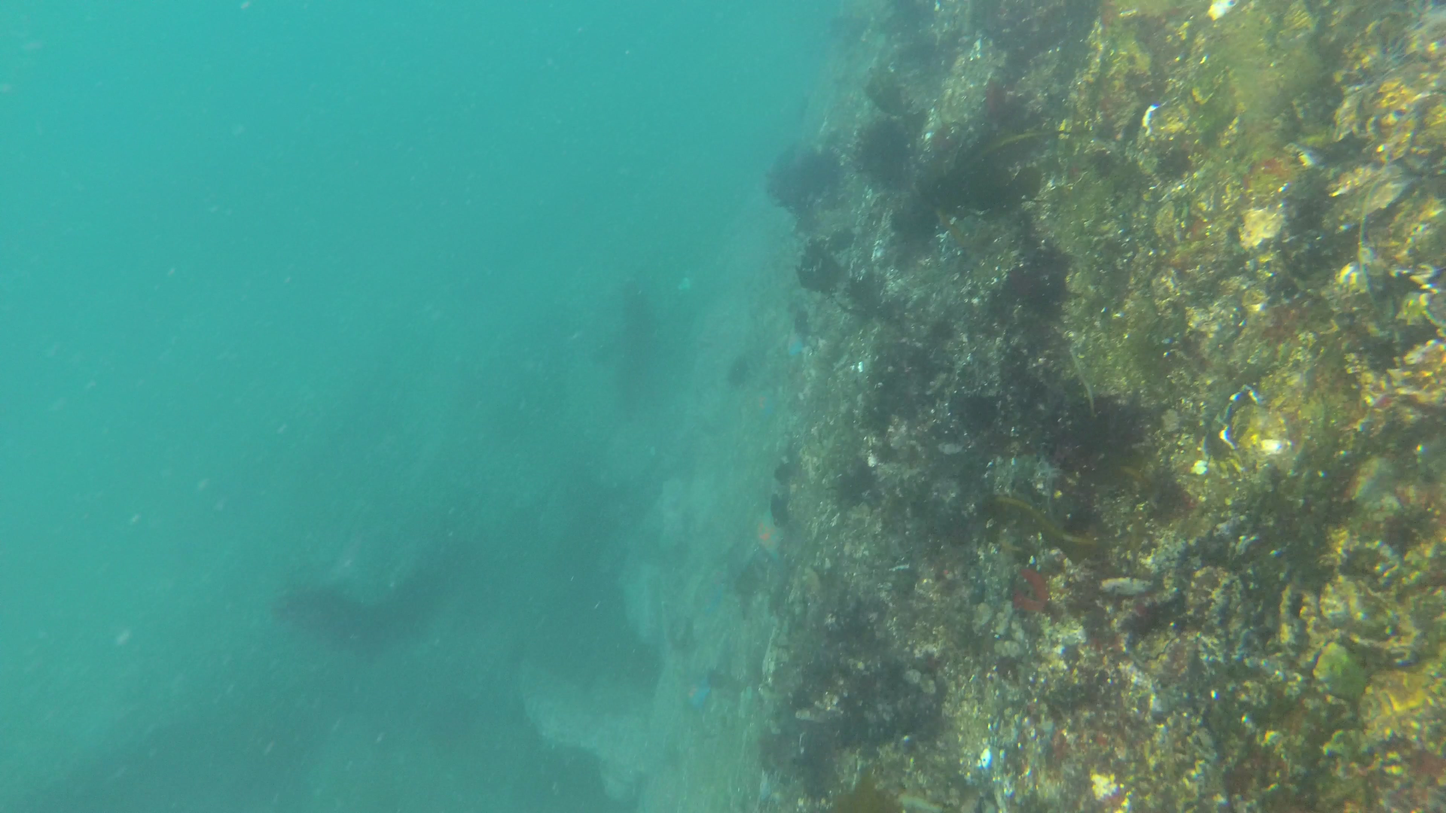holothurian: (749, 497, 789, 561), (678, 666, 717, 709), (776, 323, 813, 365), (745, 383, 784, 422)
